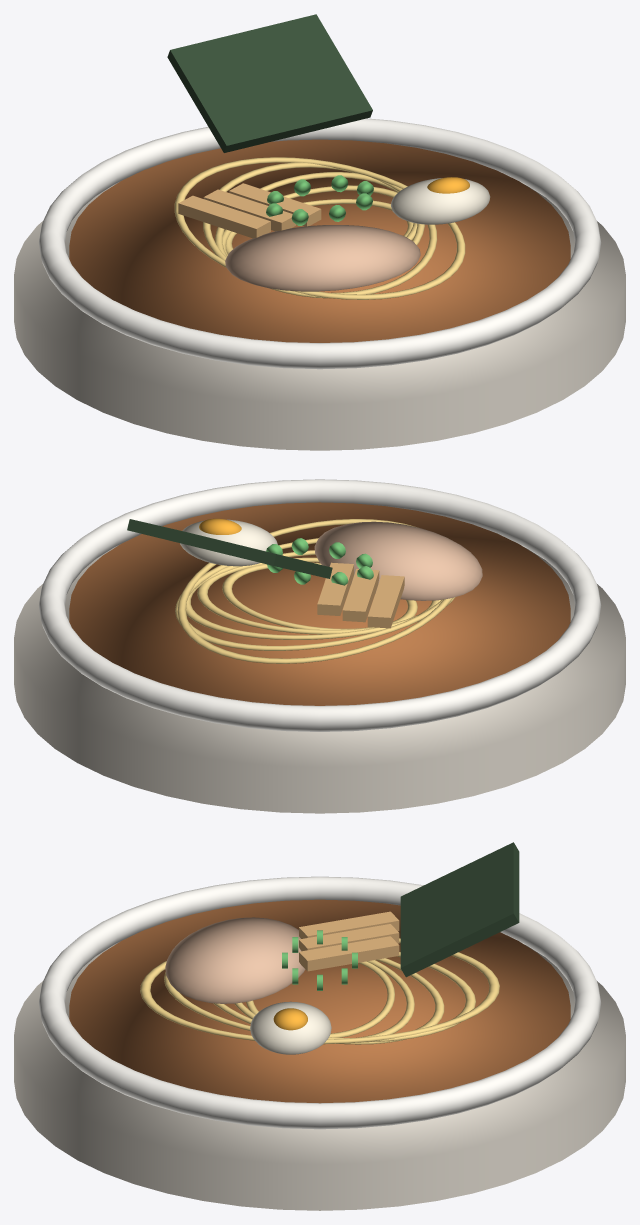
Rendered from shoyu_ramen.glb.
3 views of the same model, one above another, from view 1: azimuth 30°, elevation 25°; view 2: azimuth 150°, elevation 25°; view 3: azimuth 270°, elevation 25° (orthographic).
Bounding box in the file's own units: 2.1 × 0.8084 × 2.1.
